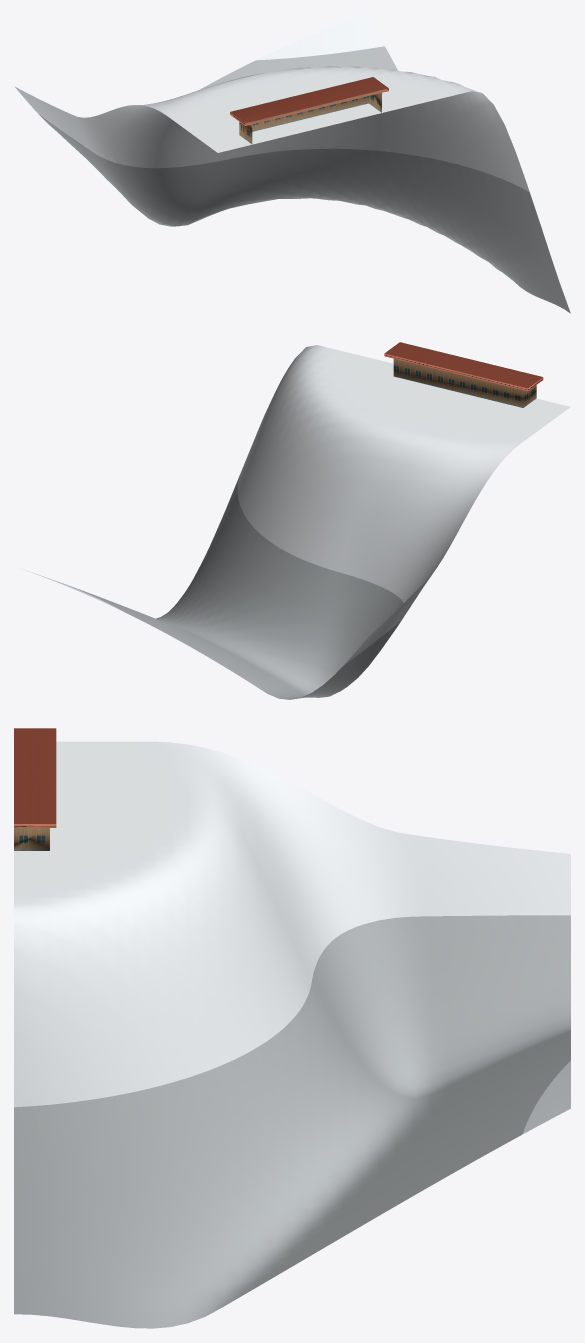
The model's file is alpine-13-11.glb.
The picture shows the model from 3 angles, top to bottom: view 1: azimuth 30°, elevation 25°; view 2: azimuth 150°, elevation 25°; view 3: azimuth 270°, elevation 25°; orthographic projection. The views are drawn at different scales.
Parts seen in each view (by area): view 1: alpine-13-11; view 2: alpine-13-11; view 3: alpine-13-11.
Part boxes in pixels (x1,y1,x2,y2): alpine-13-11: [14, 14, 570, 313]; alpine-13-11: [23, 342, 570, 699]; alpine-13-11: [14, 728, 570, 1328].
Size of the model in its own units: 256 by 194 by 256.
Materials: 7 (7 with a texture image).
